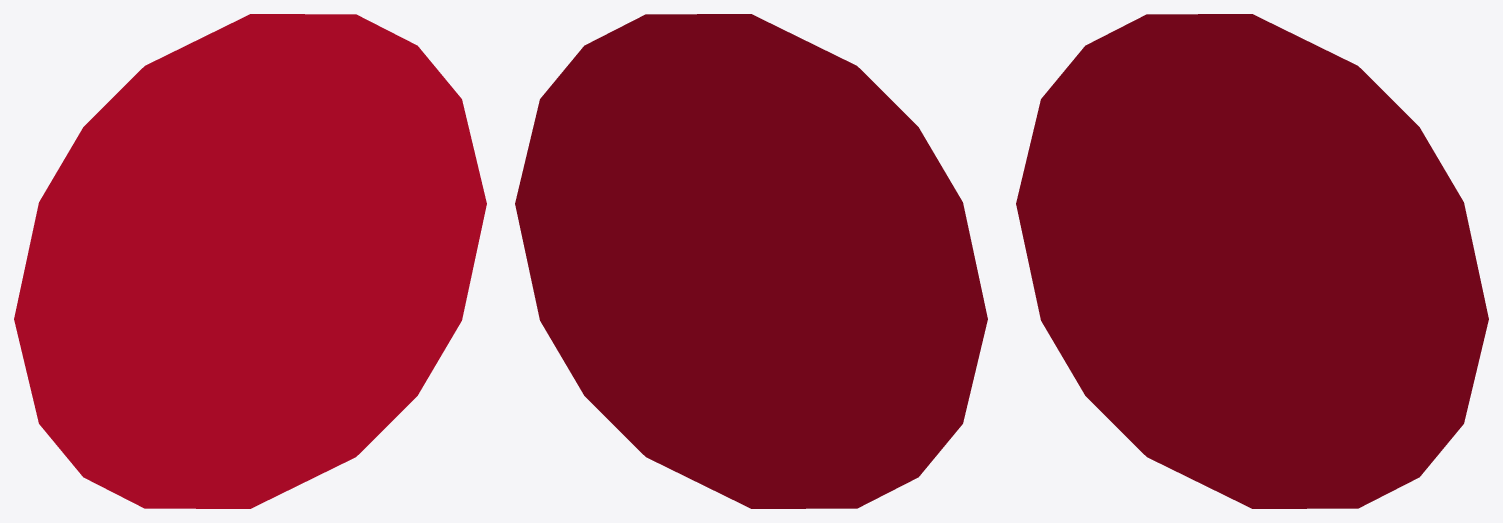
The model's file is RedCircle.glb.
3 views of the same model, side by side, from view 1: azimuth 30°, elevation 25°; view 2: azimuth 150°, elevation 25°; view 3: azimuth 330°, elevation 25° (orthographic).
Parts seen in each view (by area): view 1: Plane; view 2: Plane; view 3: Plane.
Boxes of the visible parts, left/top/right/bottom form: Plane: left=14, top=14, right=486, bottom=508; Plane: left=515, top=14, right=987, bottom=508; Plane: left=1016, top=14, right=1488, bottom=508.
Bounding box in the file's own units: 2.33 × 2.33 × 5.16e-16.
